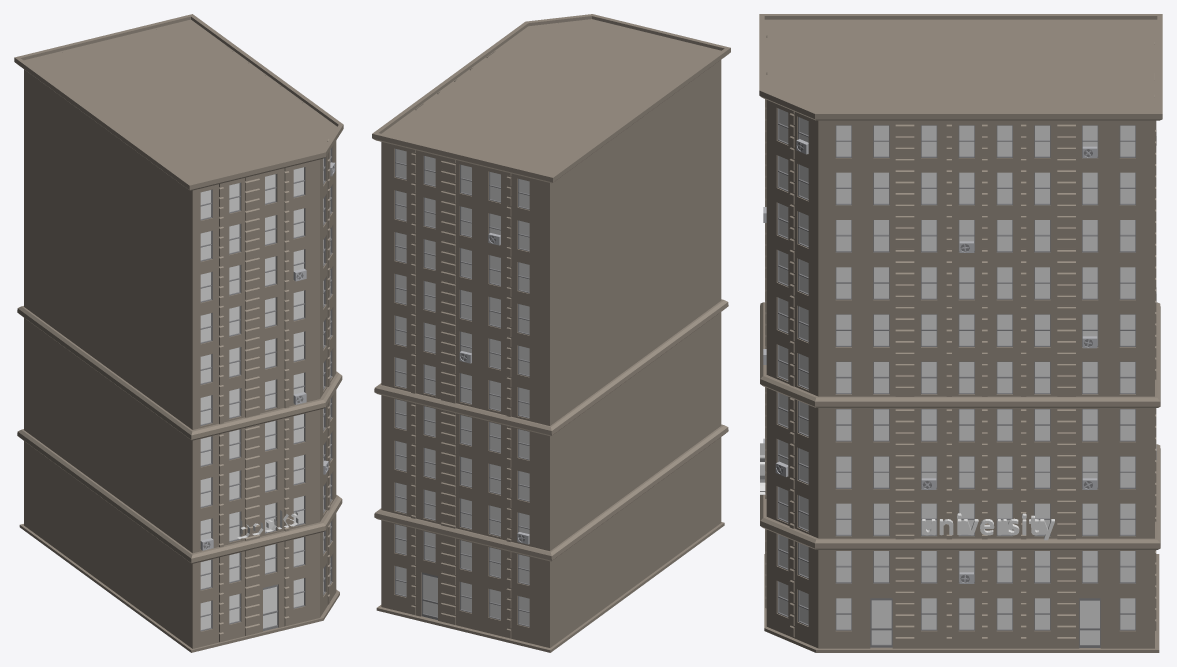
3 renders of one model, left to right at view 1: azimuth 30°, elevation 25°; view 2: azimuth 150°, elevation 25°; view 3: azimuth 270°, elevation 25°, orthographic. The views are drawn at different scales.
Parts seen in each view (by area): view 1: Building_09; view 2: Building_09; view 3: Building_09, Sign09_1.
Boxes of the visible parts, bbox=[...] form: Building_09: bbox=[14, 14, 343, 652]; Building_09: bbox=[372, 14, 730, 652]; Building_09: bbox=[759, 14, 1162, 652]; Sign09_1: bbox=[922, 513, 1054, 540].
Size of the model in its own units: 1014 by 2555 by 1726.
